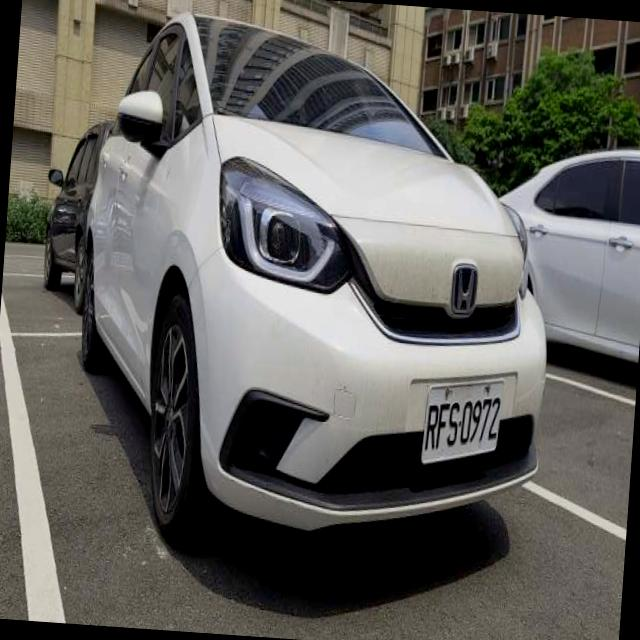license plate: (422, 380, 501, 463)
wheel: (150, 294, 204, 540)
